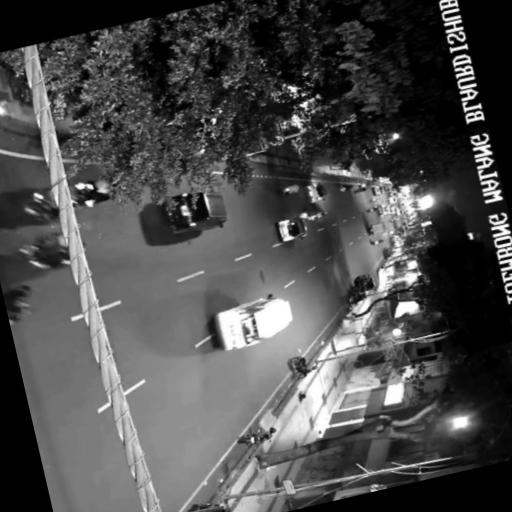bus: (202, 288, 310, 358)
car: (146, 181, 234, 242), (268, 214, 308, 244), (304, 178, 334, 207)
motorcycle: (10, 226, 93, 272), (271, 176, 304, 198)
